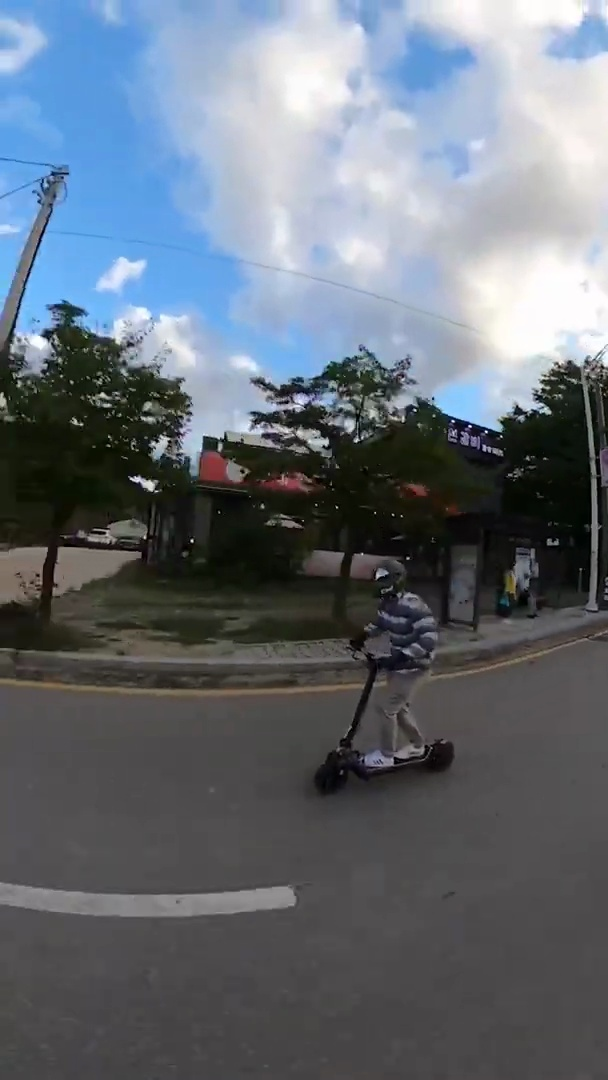helmet: (309, 556, 458, 795)
